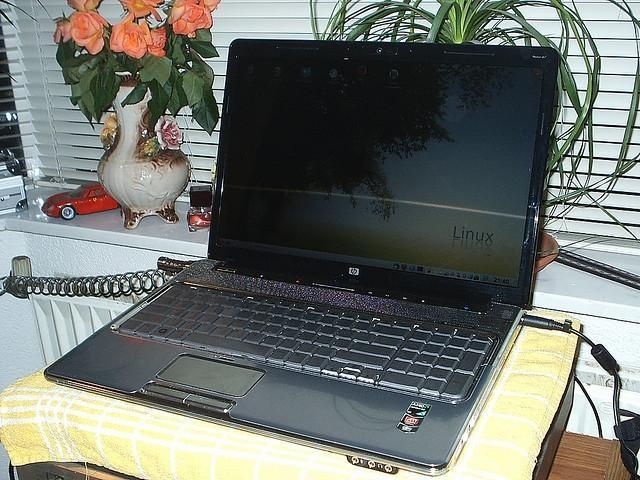car: (41, 182, 120, 222)
